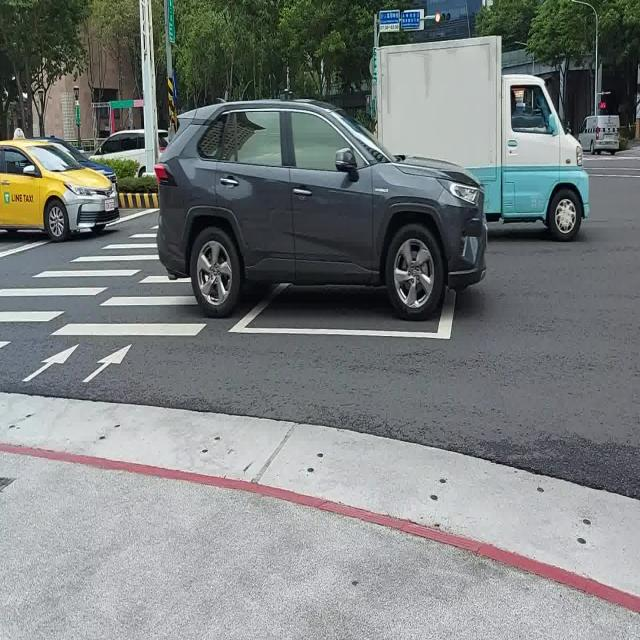car: (158, 100, 486, 320), (0, 138, 119, 240), (94, 129, 151, 171), (579, 113, 620, 154), (158, 129, 168, 153)
crosswalk: (0, 224, 160, 353), (51, 274, 206, 338)
trunk: (378, 36, 589, 240)
